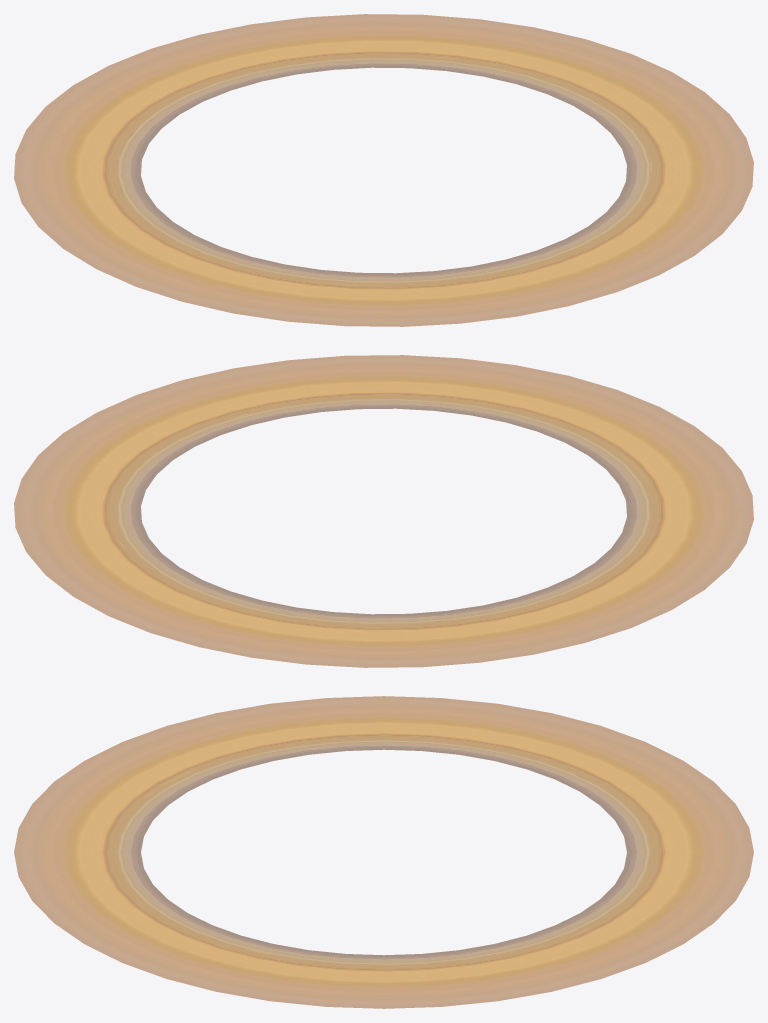
Rendered from Ring.fbx.
3 views of the same model, one above another, from view 1: azimuth 30°, elevation 25°; view 2: azimuth 150°, elevation 25°; view 3: azimuth 270°, elevation 25° (orthographic).
Visible parts, largest first — view 1: pTorus1; view 2: pTorus1; view 3: pTorus1.
Boxes of the visible parts, box(x1,y1,x2,y2) form: pTorus1: box(14, 14, 753, 326); pTorus1: box(14, 355, 753, 667); pTorus1: box(14, 696, 753, 1008).
Bounding box in the file's own units: 3.2 × 0 × 3.2.
Materials: 1 (1 with a texture image).
